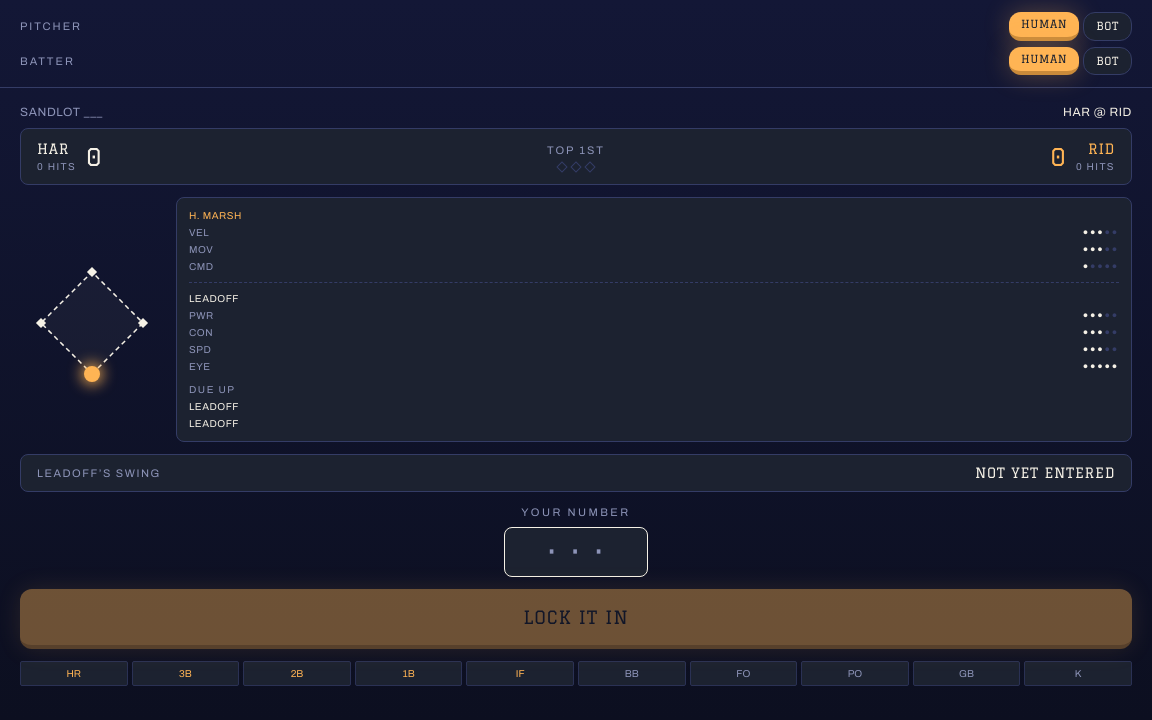
DuelPlay › never shows the batter seat the pitch after the pitcher commits (secret-state law)
Expected: the text "NOT YET ENTERED" is shown, [975,463,1115,483]
Step 1. Type "500" into the field labelled "your number" → coordinates (576, 552), box [504,526,648,576]
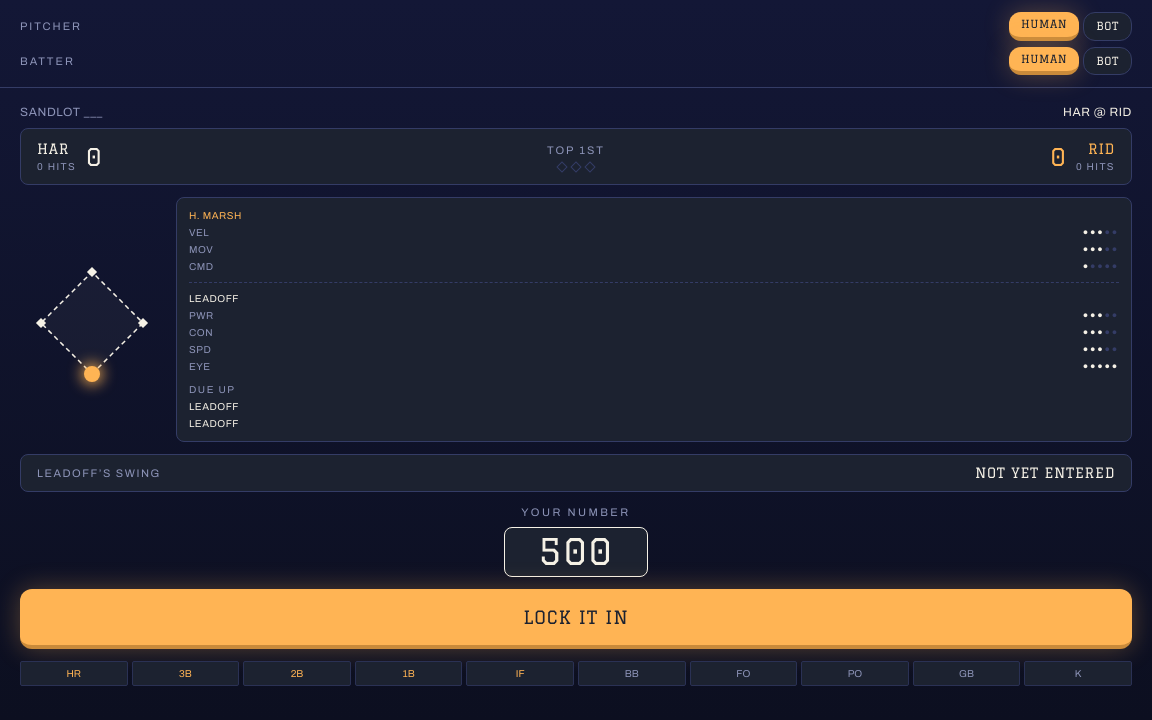
Step 2. Click the button "LOCK IT IN" → coordinates (576, 618), box [20,588,1132,648]
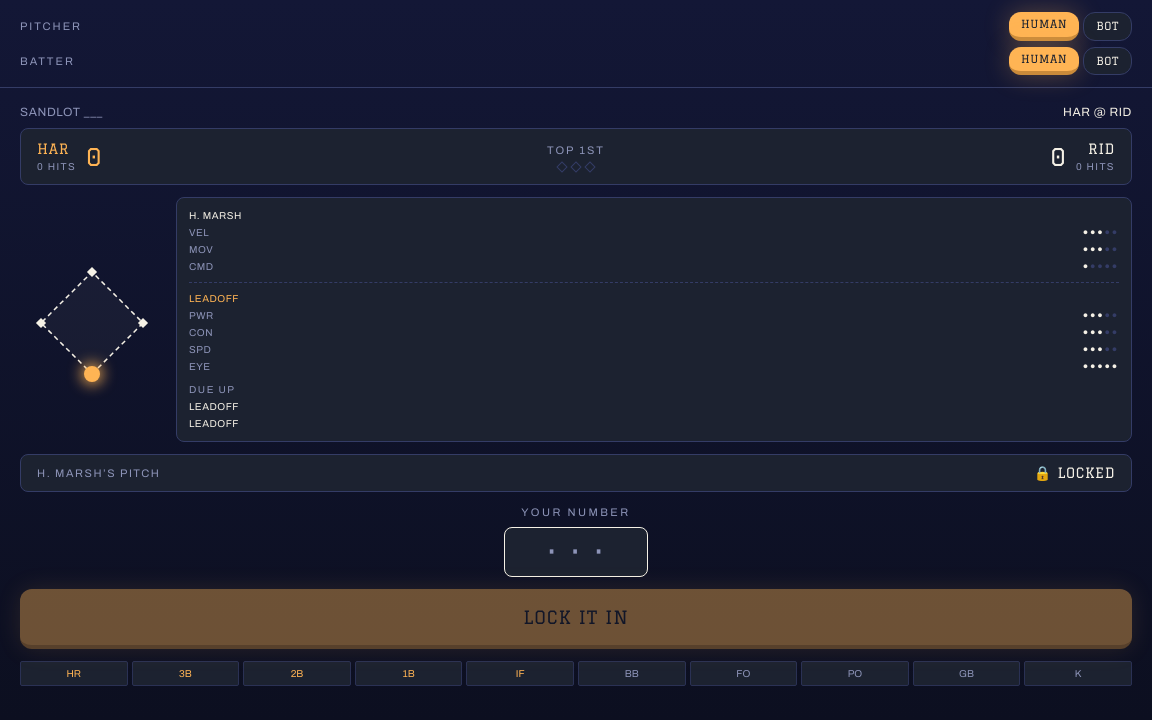
Expected: the text "500" is not shown
Now the text "🔒 LOCKED" is shown, box [1034,463,1115,483]
